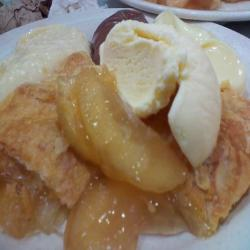apple_pie: (11, 68, 242, 245)
icecream: (94, 17, 230, 172)
